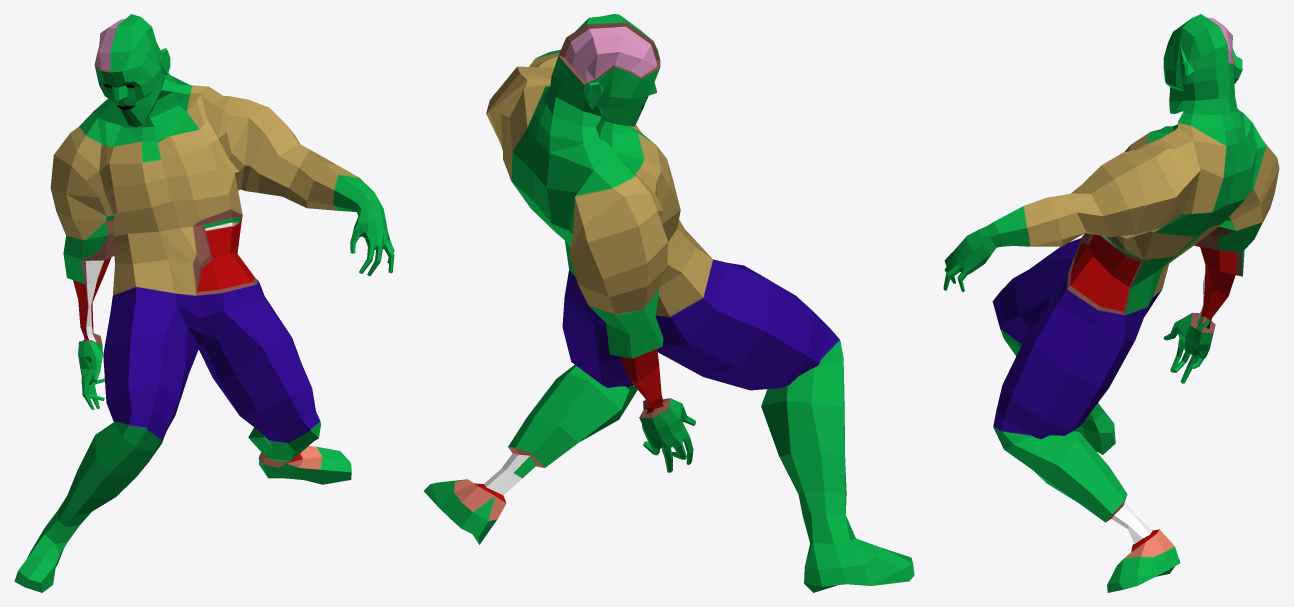
File: ZombieDead(37).obj
3 views of the same model, side by side, from view 1: azimuth 30°, elevation 25°; view 2: azimuth 150°, elevation 25°; view 3: azimuth 270°, elevation 25° (orthographic). The views are drawn at different scales.
Visible parts, largest first — view 1: Plane002; view 2: Plane002; view 3: Plane002.
Part boxes in pixels (x1,y1,x2,y2): Plane002: [14, 14, 394, 592]; Plane002: [424, 14, 914, 592]; Plane002: [943, 14, 1279, 592].
Bounding box in the file's own units: 1149 × 1440 × 884.
